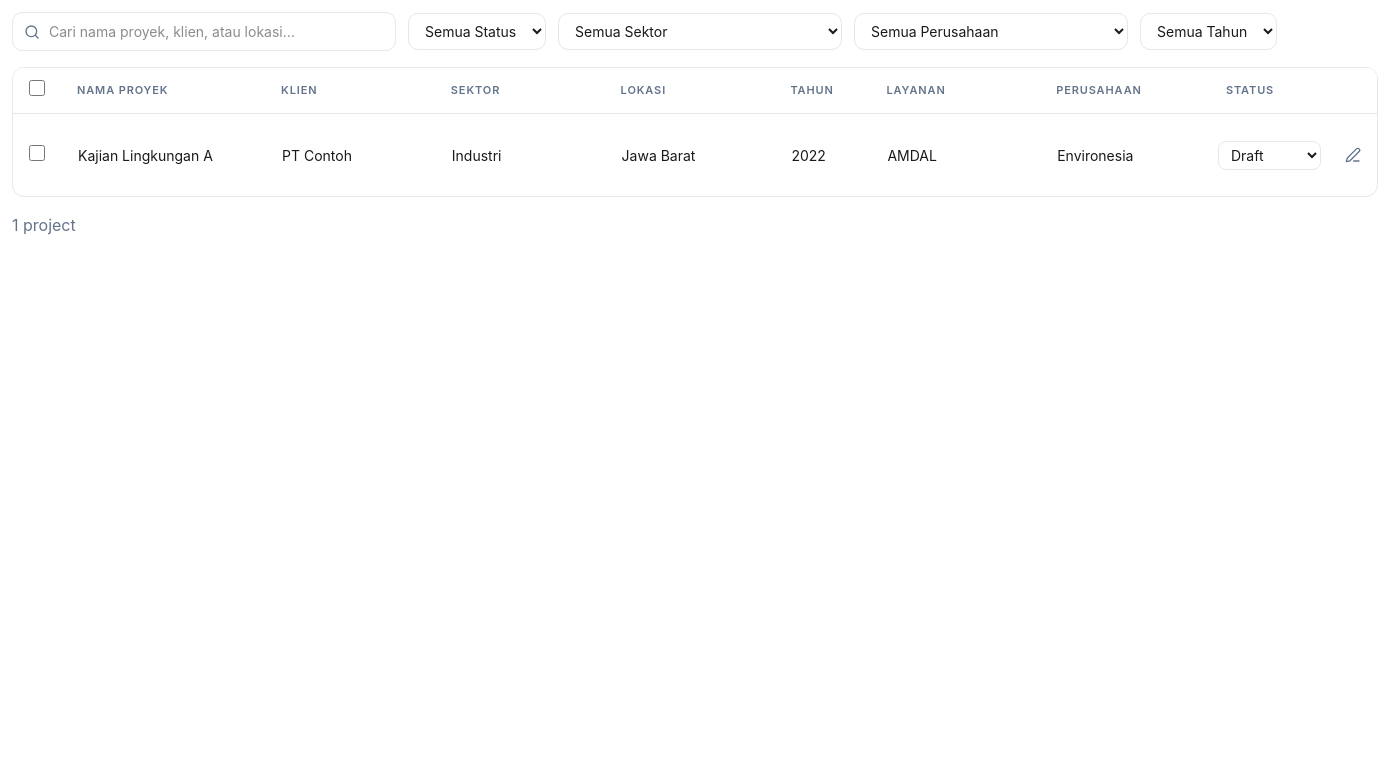
Scenario: ProjectsTableEditor — inline editing › shows an error toast and keeps the row unchanged when a save fails
Replace the text in the field named "Nama proyek: Kajian Lingkungan A" with "Percobaan Gagal" at (163, 155), box [69, 140, 257, 170]
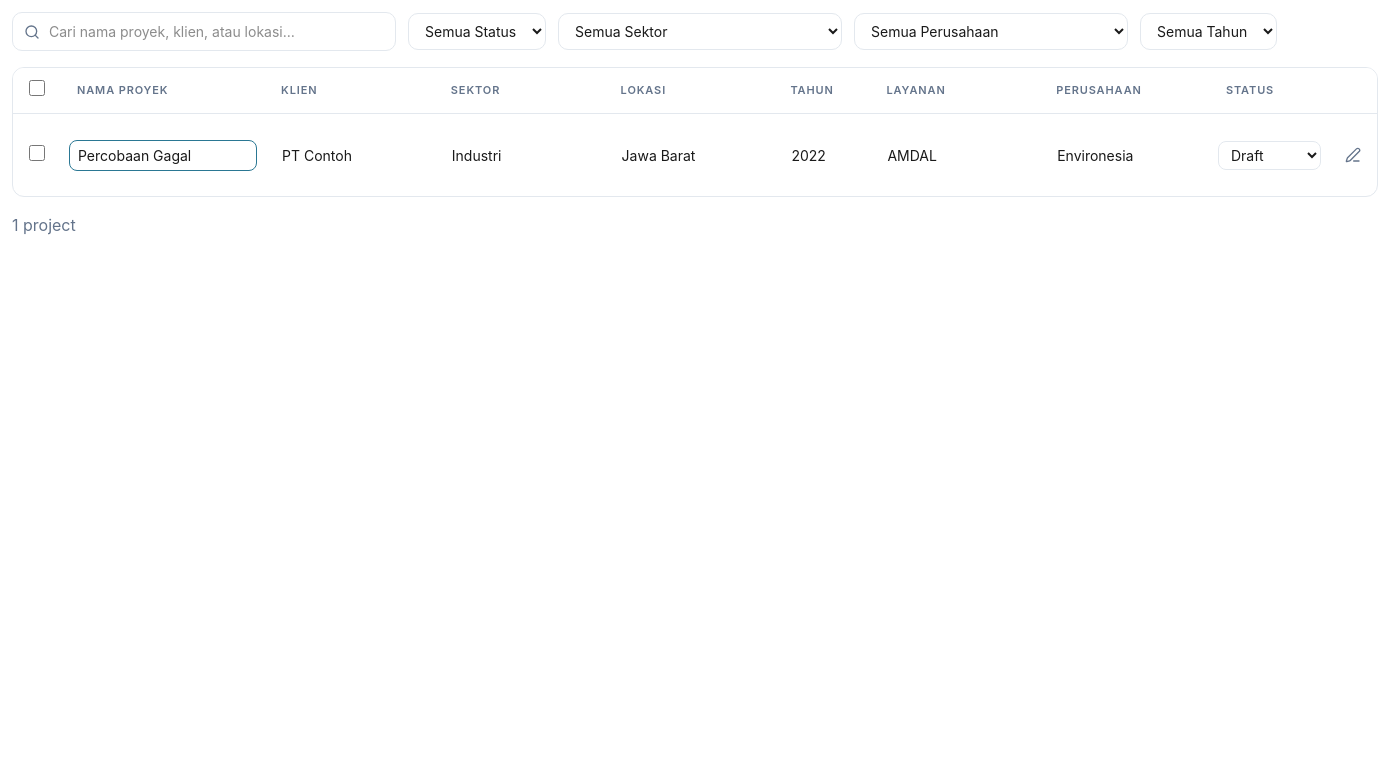
Press Tab
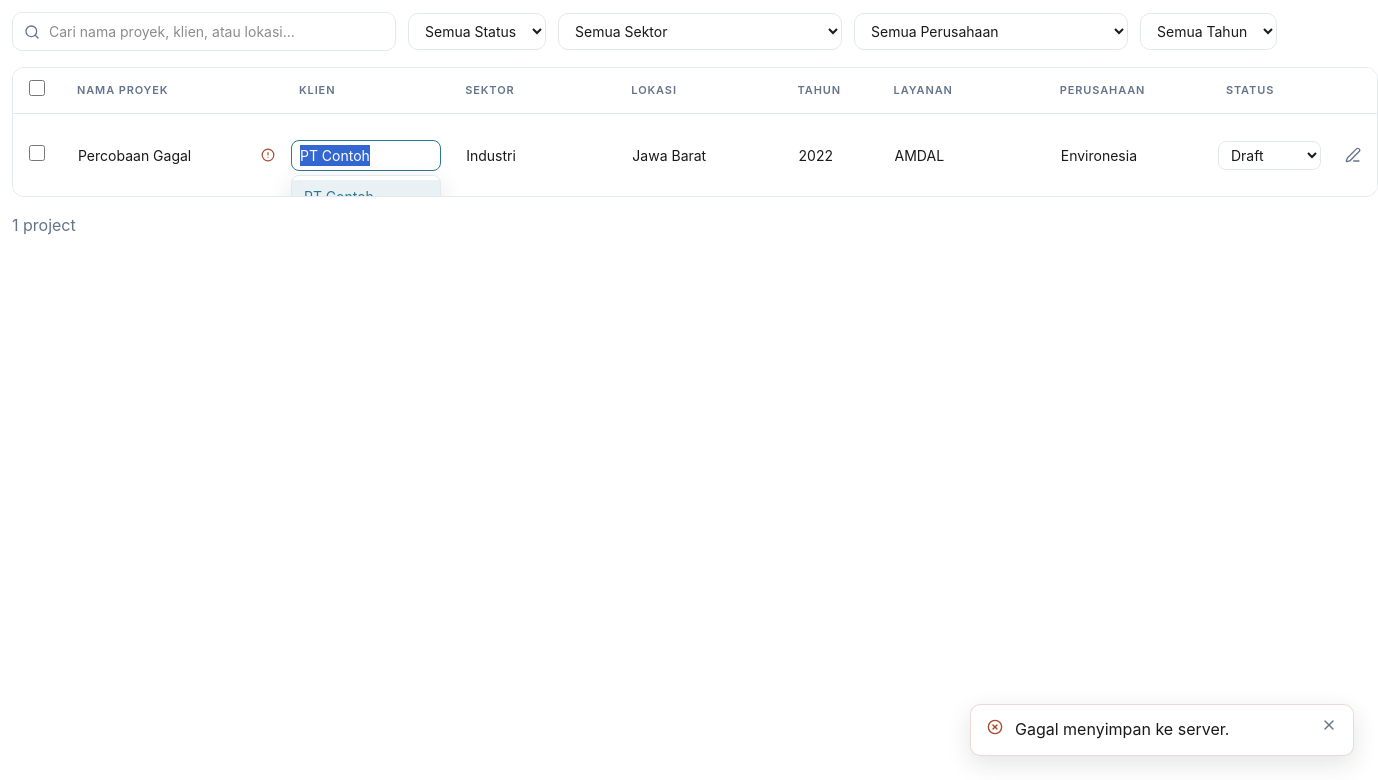
Now the text "Gagal menyimpan ke server." is shown, box [1015, 719, 1229, 739]
